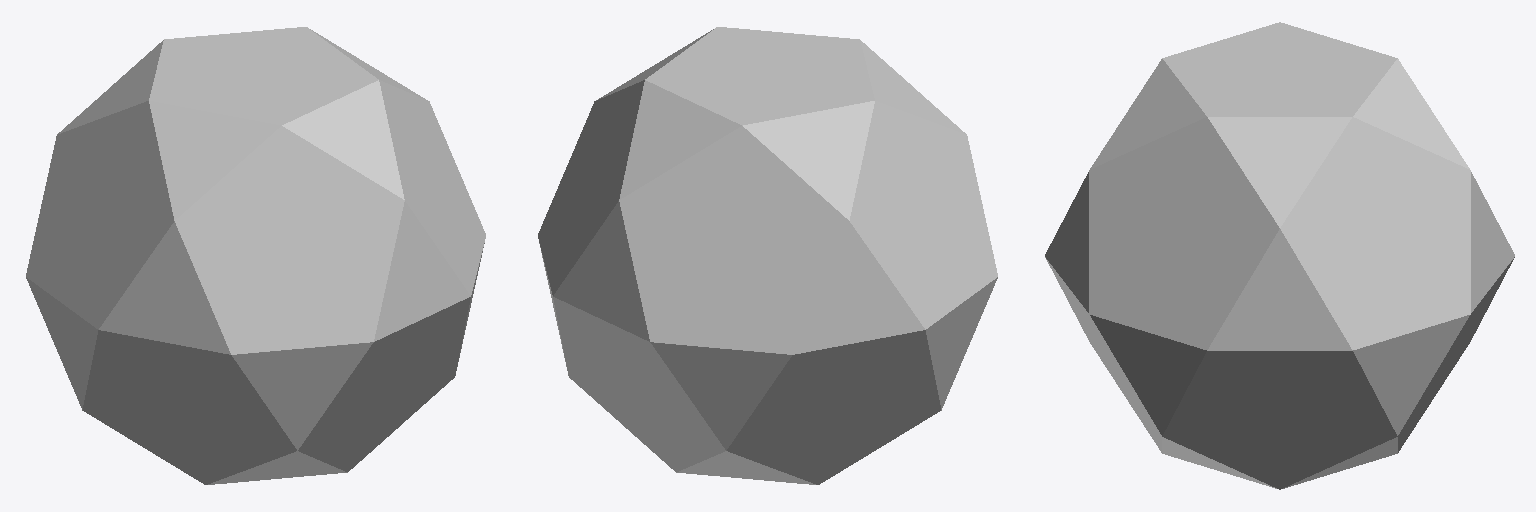
The model's file is IcosiDodecahedron.obj.
The picture shows the model from 3 angles: view 1: azimuth 30°, elevation 25°; view 2: azimuth 150°, elevation 25°; view 3: azimuth 270°, elevation 25°; orthographic projection.
Visible parts, largest first — view 1: IcosiDodecahedron; view 2: IcosiDodecahedron; view 3: IcosiDodecahedron.
Boxes of the visible parts, x1,y1,x2,y2 form: IcosiDodecahedron: [26, 27, 485, 484]; IcosiDodecahedron: [538, 27, 997, 484]; IcosiDodecahedron: [1045, 22, 1514, 489].
Size of the model in its own units: 1.5 by 1.34 by 1.58.